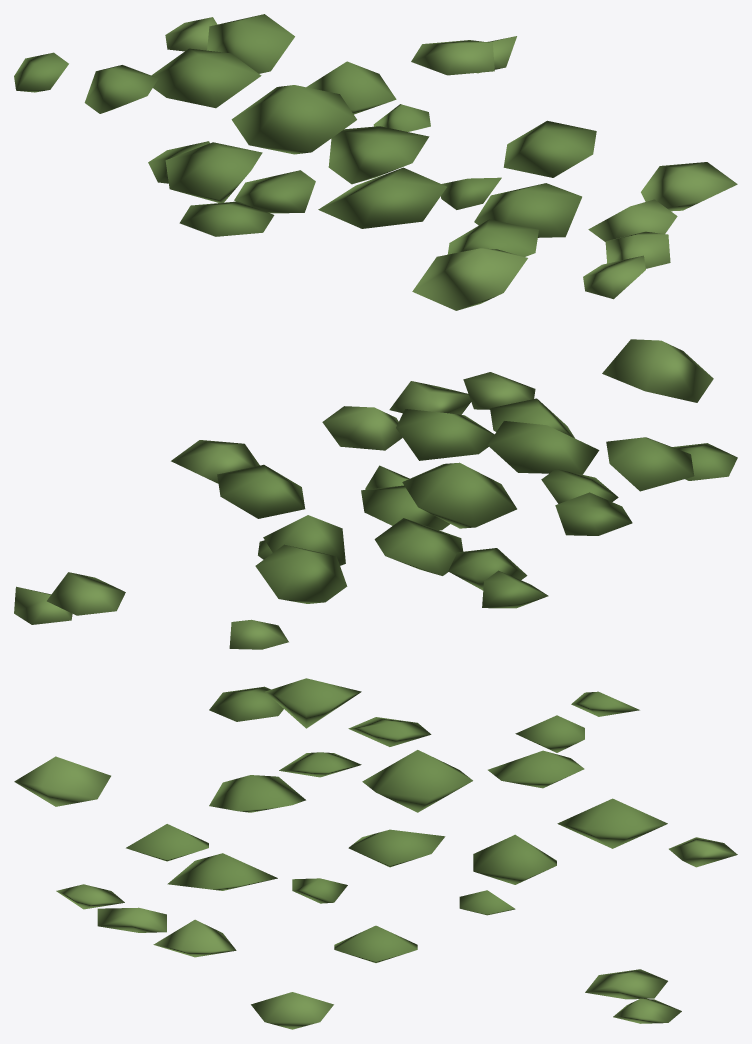
File: canopy-2--1-11.glb
3 views of the same model, one above another, from view 1: azimuth 30°, elevation 25°; view 2: azimuth 150°, elevation 25°; view 3: azimuth 270°, elevation 25° (orthographic). The views are drawn at different scales.
Bounding box in the file's own units: 105 × 30 × 130.
1 material, 1 textured.
